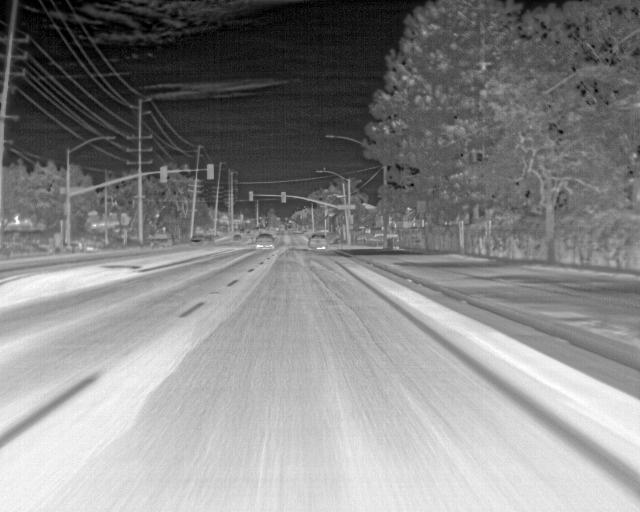car: (307, 233, 326, 251), (254, 233, 275, 249), (234, 232, 245, 242)
